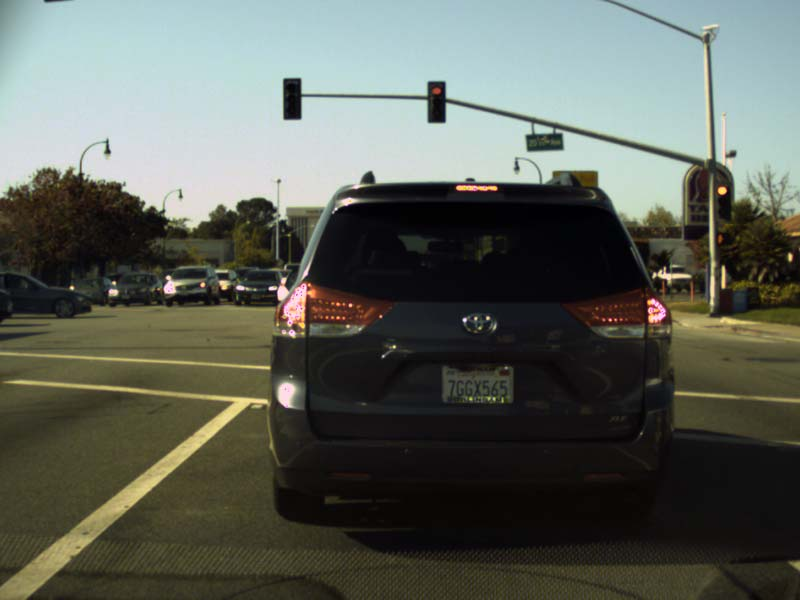Red: (427, 81, 445, 121), (716, 183, 732, 217)
